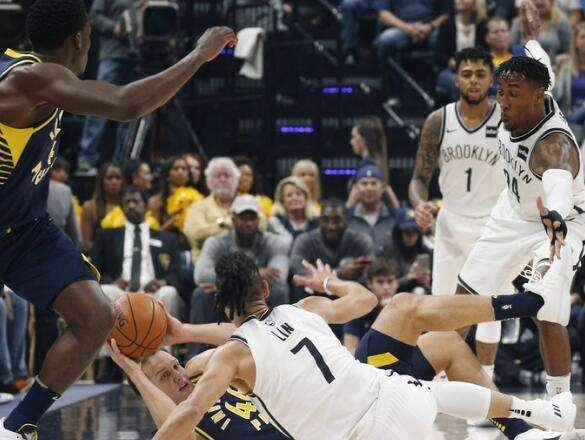10+: (3, 2, 585, 433)
down: (96, 235, 576, 440), (154, 241, 562, 436)
